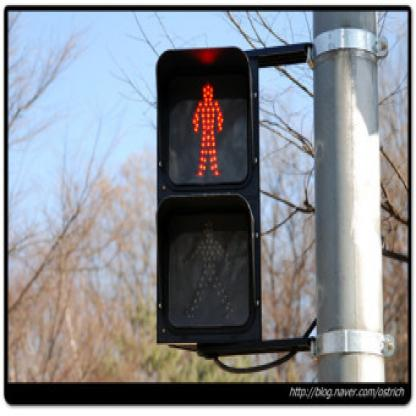Red: (154, 48, 262, 347)
